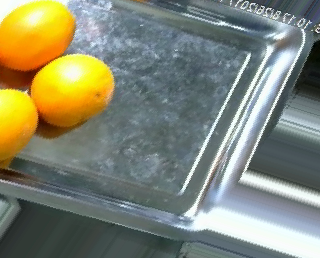Orange: (29, 52, 115, 127), (1, 2, 76, 71)
